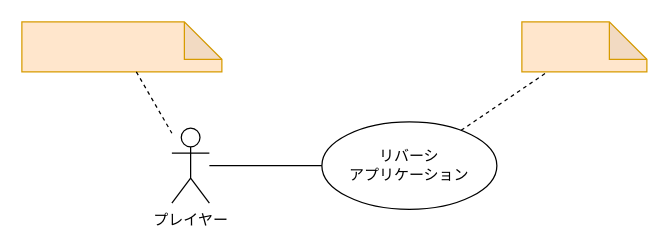
This 669x251 diagram has some shape labels left out. Here are the shapes that lost their labels. From the top down, the box of each, then its label:
(21, 21, 222, 72): 一人で黒白を交互に打つ
(521, 21, 647, 72): Webアプリ
